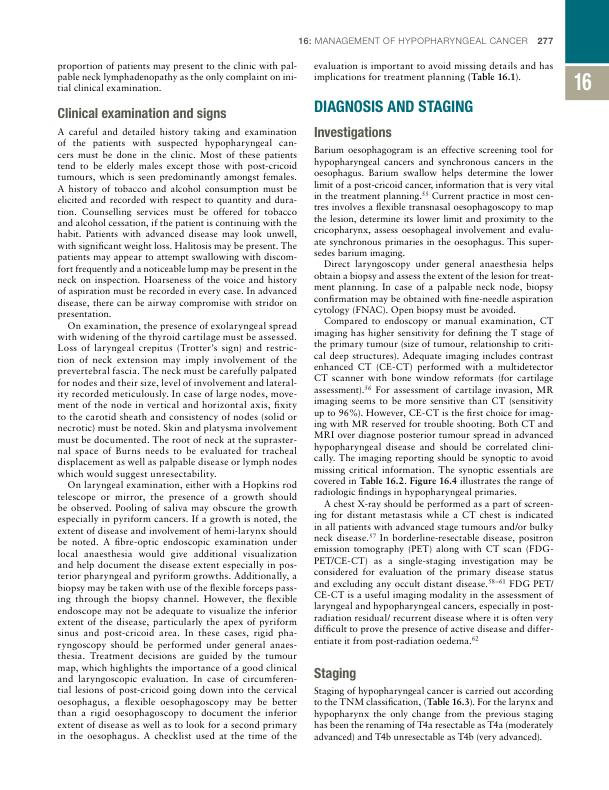header: (297, 36, 530, 45)
section-heading: (313, 98, 474, 114)
sub-section-heading: (57, 106, 228, 122), (314, 125, 393, 140), (313, 666, 358, 682)
text: (56, 126, 298, 743), (313, 145, 555, 648), (313, 686, 555, 743), (56, 61, 298, 93), (313, 61, 554, 83)
